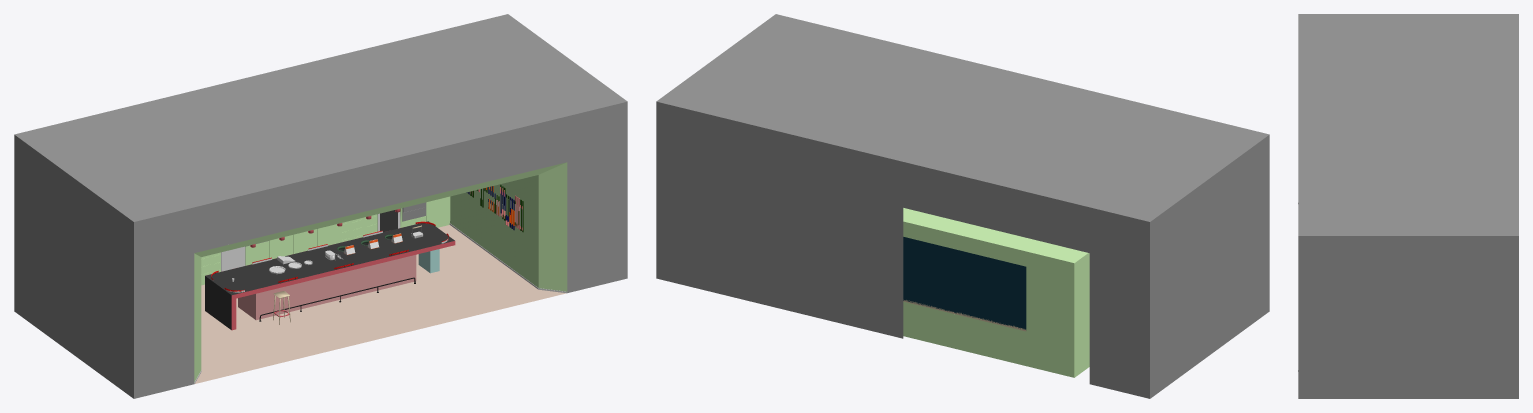
Rendered from ul-kitchen28.glb.
The picture shows the model from 3 angles, left to right: view 1: azimuth 30°, elevation 25°; view 2: azimuth 150°, elevation 25°; view 3: azimuth 270°, elevation 25°; orthographic projection. The views are drawn at different scales.
Parts seen in each view (by area): view 1: concreteWalls, floor, mainGreenWall, mainTablePlate, mainTableBase, closetDoors, mainTableSidePannels, mainTableSidePlane; view 2: concreteWalls, mainGreenWall, MainNishBackWall; view 3: concreteWalls.
Part boxes in pixels (box(x1,y1,x2,y2)): concreteWalls: box(14, 14, 627, 398); floor: box(195, 225, 565, 383); mainGreenWall: box(194, 162, 567, 381); mainTablePlate: box(205, 221, 454, 295); mainTableBase: box(238, 255, 416, 320); closetDoors: box(201, 196, 450, 281); mainTableSidePannels: box(231, 241, 455, 330); mainTableSidePlane: box(205, 276, 231, 329); concreteWalls: box(656, 14, 1269, 398); mainGreenWall: box(903, 208, 1089, 377); MainNishBackWall: box(903, 237, 1026, 329); concreteWalls: box(1298, 14, 1518, 398).
Bounding box in the file's own units: 208 × 71.34 × 87.55.
